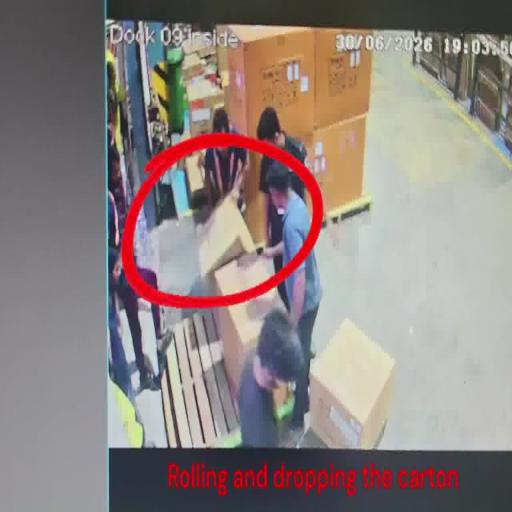carton: (220, 26, 316, 152), (309, 317, 397, 451), (214, 252, 290, 400), (314, 32, 374, 131), (306, 122, 368, 216), (194, 192, 257, 282)
pallet: (160, 300, 238, 449), (316, 194, 376, 234)
person: (260, 155, 322, 380), (107, 184, 161, 392), (234, 310, 310, 448), (256, 106, 309, 248), (201, 107, 249, 220)
